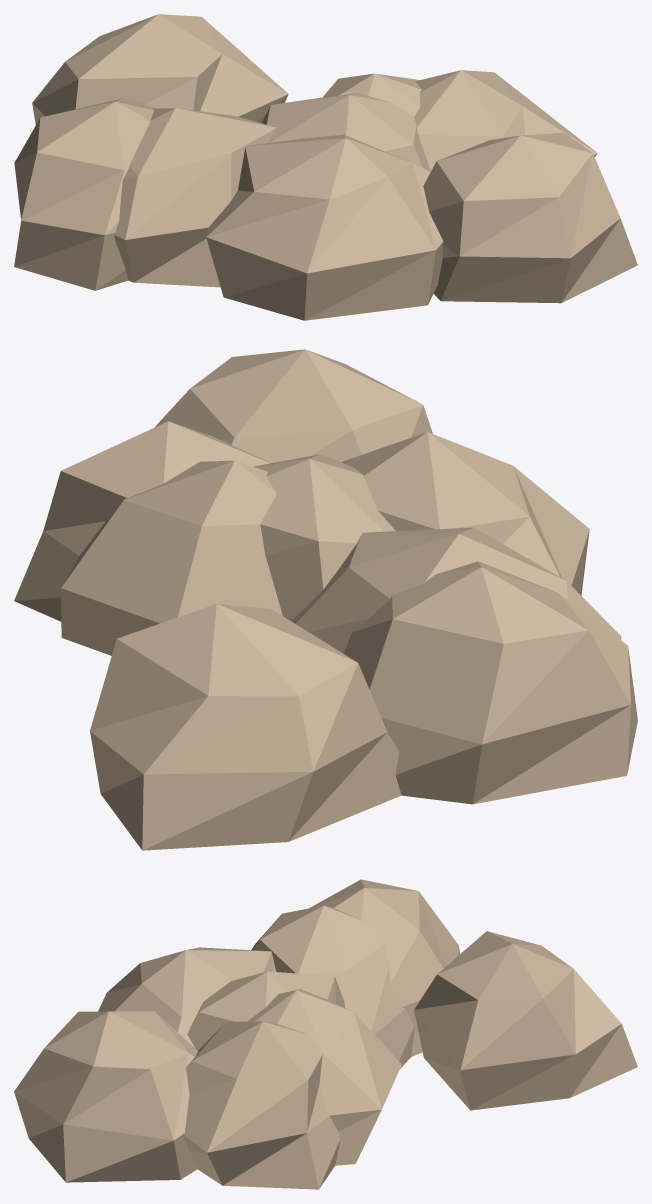
The model's file is food_fungus.obj.
3 views of the same model, one above another, from view 1: azimuth 30°, elevation 25°; view 2: azimuth 150°, elevation 25°; view 3: azimuth 270°, elevation 25° (orthographic). The views are drawn at different scales.
Visible parts, largest first — view 1: food_fungus; view 2: food_fungus; view 3: food_fungus.
Part boxes in pixels (box(x1,y1,x2,y2)): food_fungus: box(14, 14, 637, 320); food_fungus: box(14, 349, 637, 850); food_fungus: box(14, 879, 637, 1189).
Size of the model in its own units: 0.3493 by 0.09 by 0.3981.
